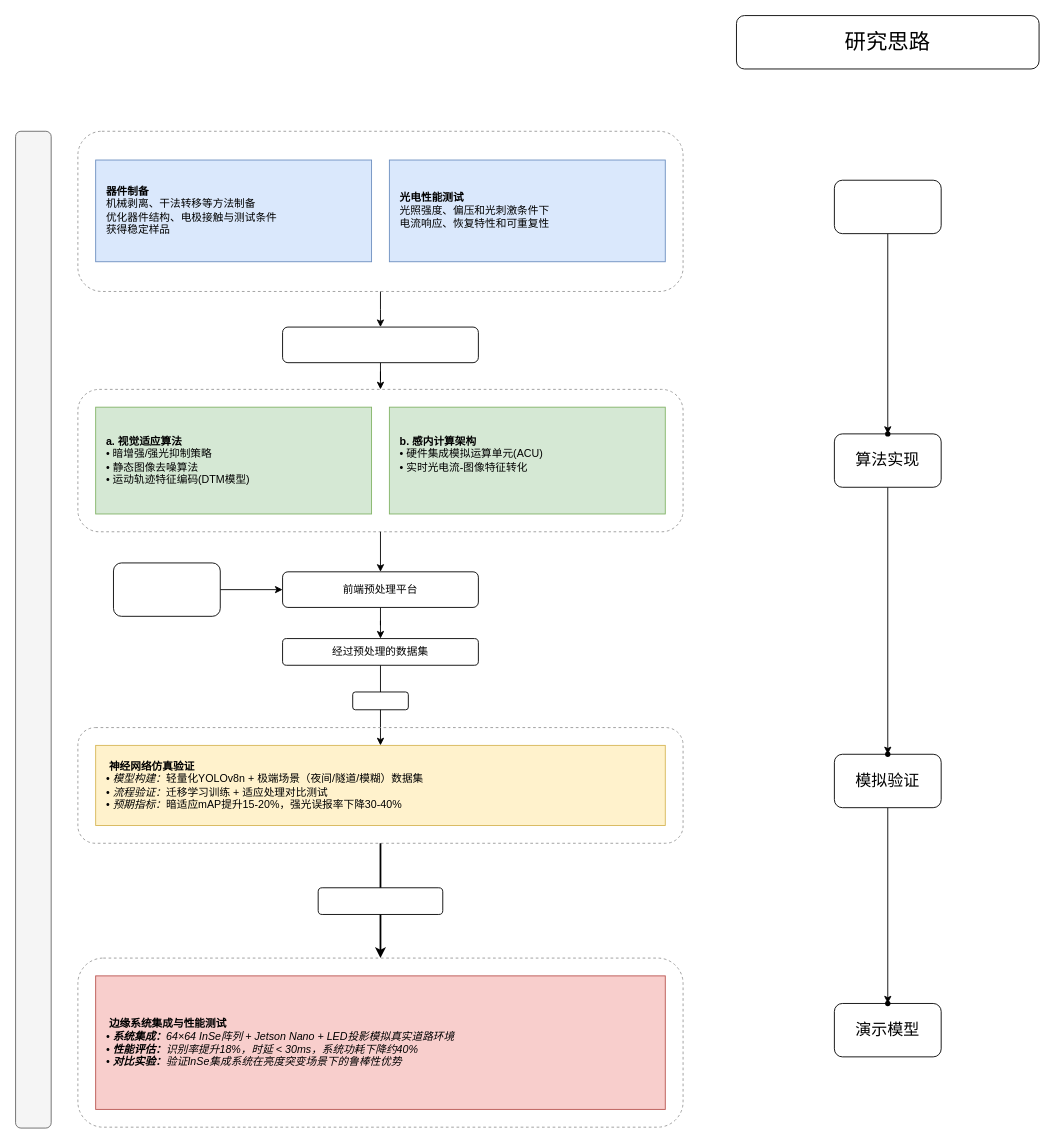
This 1055x1144 diagram has some shape labels left out. Each missing label, with the box of its shape:
InSe突触阵列: (282, 326, 478, 363)
LED模拟道路场景 强光直射、隧道光线突变: (113, 562, 220, 616)
本地部署搭 建演示模型: (317, 887, 443, 914)
研究内容: (15, 130, 51, 1128)
硬件实现: (833, 179, 941, 234)
训练模型: (352, 691, 408, 710)
